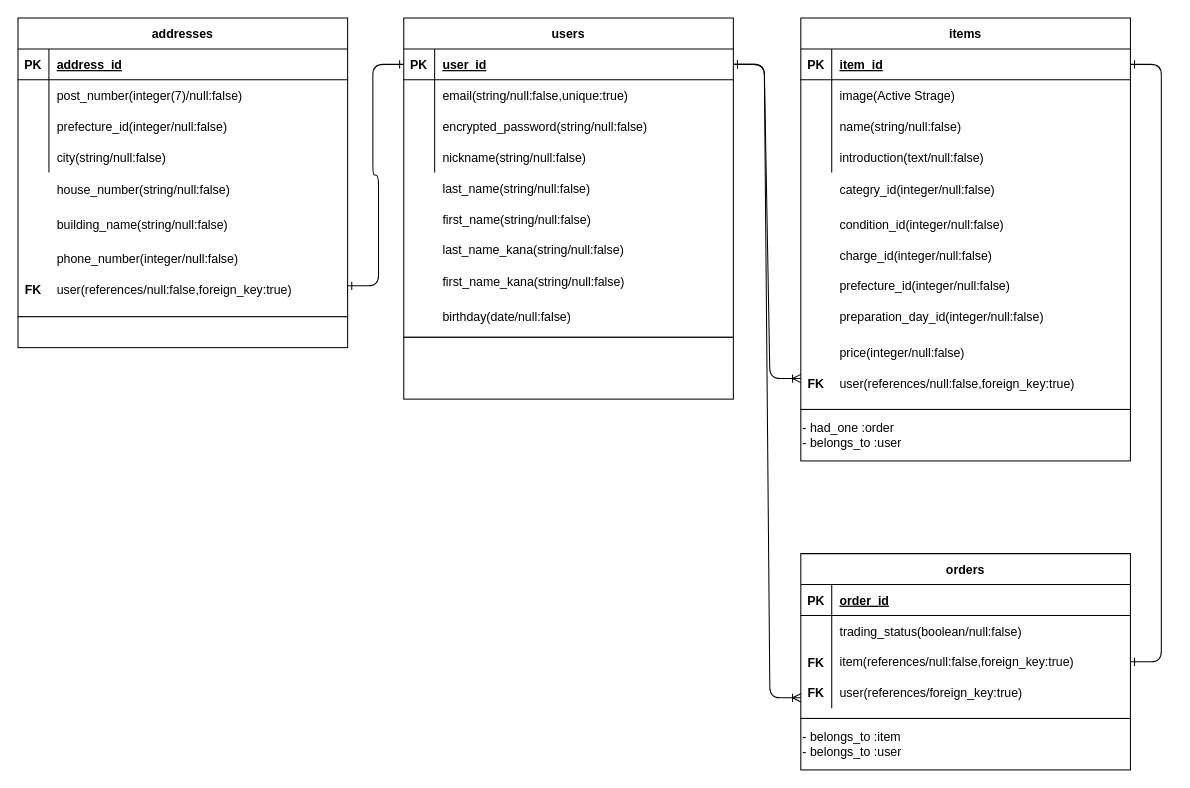
Some shapes in this 1190 by 788 pixel diagram are drawn without their labels. Each missing label, with the centre of its shape:
"- belongs_to :user" goes at point (182, 332).
"- has_many: items - has_many: orders - has_one: address" goes at point (568, 367).
